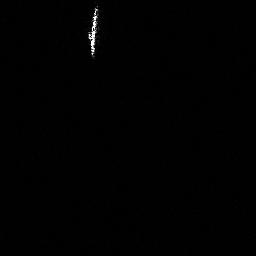ship: (83, 3, 102, 59)
